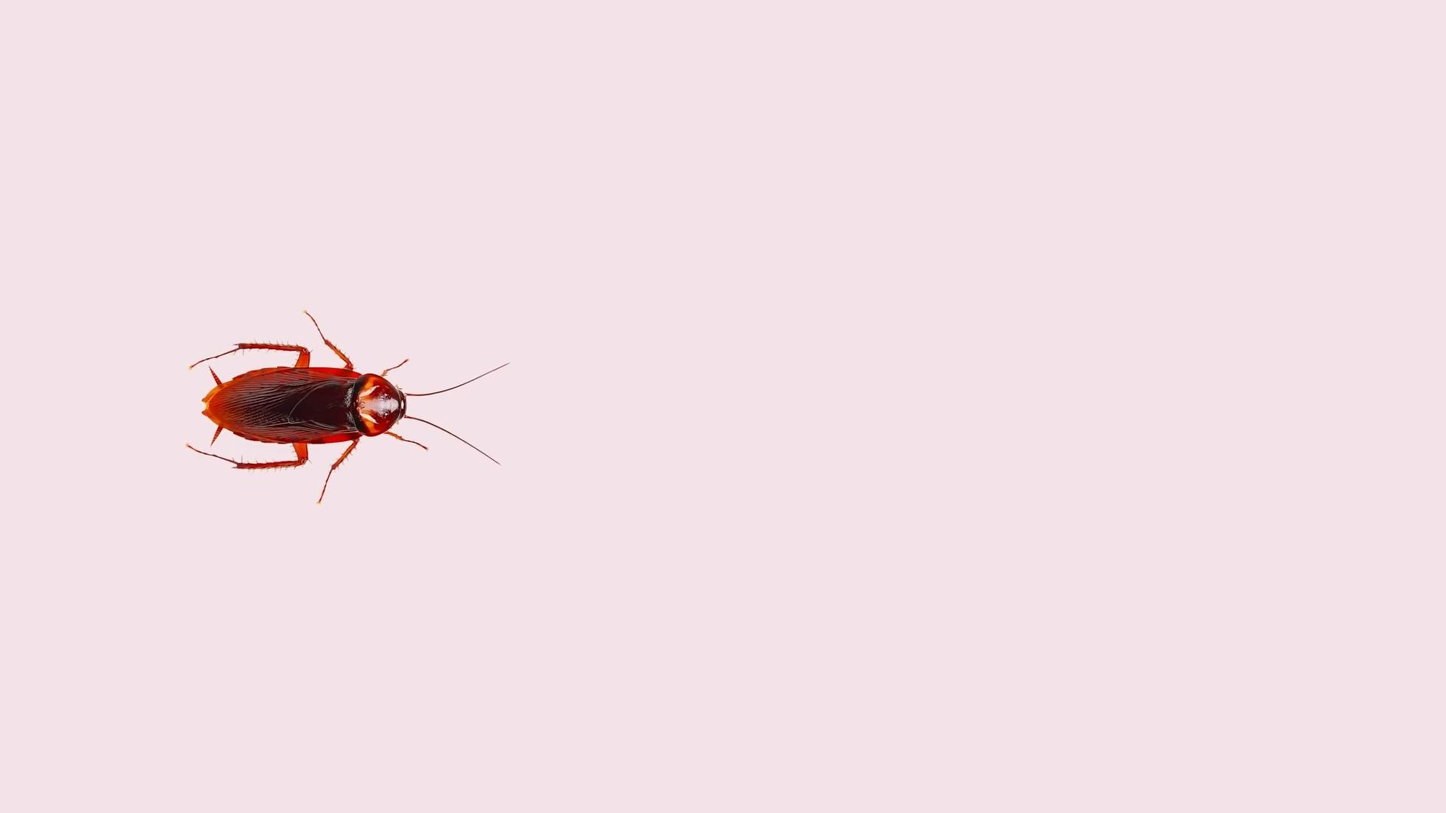cockroach: (165, 306, 515, 508)
